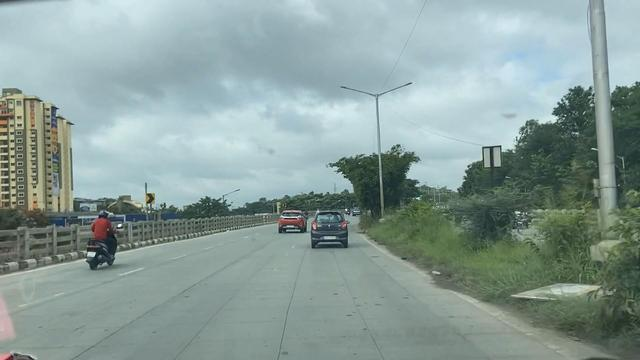LMV: (88, 211, 114, 262), (313, 215, 346, 246), (280, 210, 300, 231)
